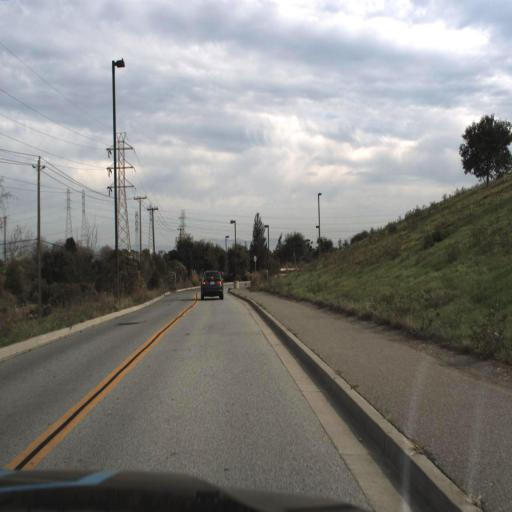car: (199, 269, 223, 300)
